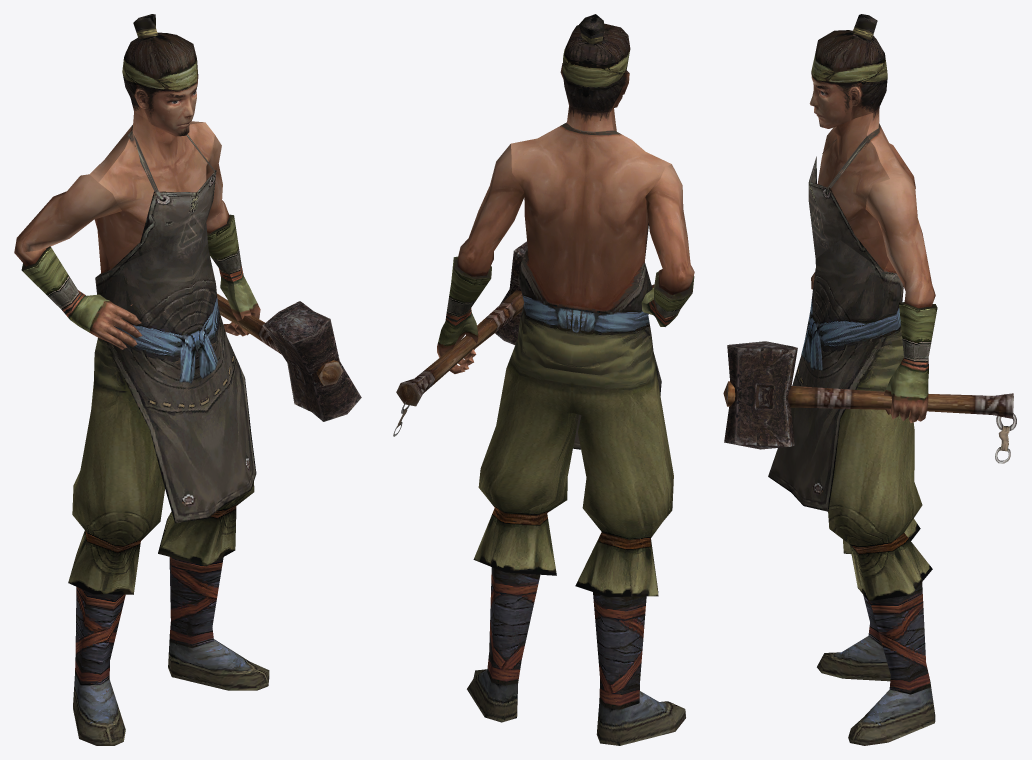
Rendered from TieJiang.FBX.
3 renders of one model, left to right at view 1: azimuth 30°, elevation 25°; view 2: azimuth 150°, elevation 25°; view 3: azimuth 270°, elevation 25°, orthographic. The views are drawn at different scales.
Parts seen in each view (by area): view 1: DrawCall_0951, DrawCall_0638, DrawCall_0648; view 2: DrawCall_0951, DrawCall_0648, DrawCall_0638; view 3: DrawCall_0951, DrawCall_0638, DrawCall_0648.
Boxes of the visible parts, bbox=[...] form: DrawCall_0951: bbox=[14, 112, 269, 745]; DrawCall_0638: bbox=[217, 293, 361, 421]; DrawCall_0648: bbox=[122, 14, 198, 136]; DrawCall_0951: bbox=[437, 106, 694, 745]; DrawCall_0648: bbox=[560, 14, 630, 112]; DrawCall_0638: bbox=[393, 241, 527, 436]; DrawCall_0951: bbox=[768, 107, 937, 745]; DrawCall_0638: bbox=[723, 341, 1016, 463]; DrawCall_0648: bbox=[809, 14, 887, 128].
Size of the model in its own units: 74.88 by 191 by 74.56.
